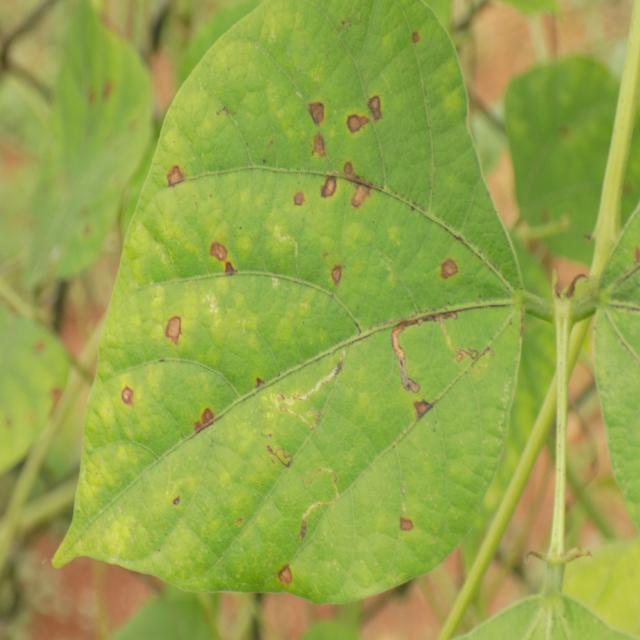Dolicos bean_cercospora leaf spot: (62, 0, 526, 604)
